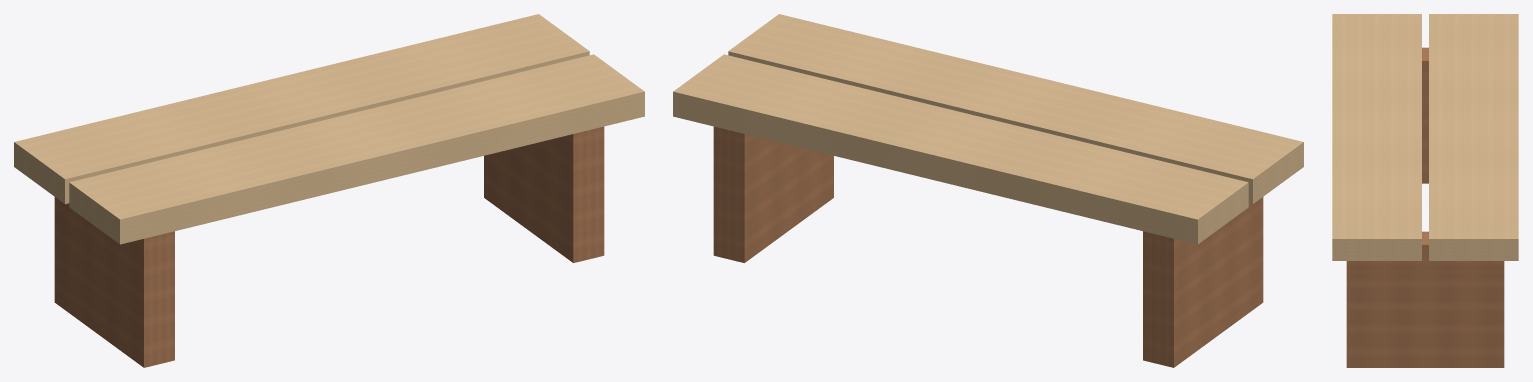
The model's file is atlas100-desertdeco-util03.lod1.glb.
The picture shows the model from 3 angles, left to right: view 1: azimuth 30°, elevation 25°; view 2: azimuth 150°, elevation 25°; view 3: azimuth 270°, elevation 25°; orthographic projection. The views are drawn at different scales.
Parts seen in each view (by area): view 1: atlas100-desertdeco-util03:part-004, atlas100-desertdeco-util03:part-002, atlas100-desertdeco-util03:part-000, atlas100-desertdeco-util03:part-001; view 2: atlas100-desertdeco-util03:part-002, atlas100-desertdeco-util03:part-004, atlas100-desertdeco-util03:part-000, atlas100-desertdeco-util03:part-001; view 3: atlas100-desertdeco-util03:part-002, atlas100-desertdeco-util03:part-004, atlas100-desertdeco-util03:part-001, atlas100-desertdeco-util03:part-000.
Boxes of the visible parts, <box> form: atlas100-desertdeco-util03:part-004: <box>69,54,644,244</box>; atlas100-desertdeco-util03:part-002: <box>14,14,589,204</box>; atlas100-desertdeco-util03:part-000: <box>54,197,174,367</box>; atlas100-desertdeco-util03:part-001: <box>484,126,604,262</box>; atlas100-desertdeco-util03:part-002: <box>673,54,1248,244</box>; atlas100-desertdeco-util03:part-004: <box>728,14,1303,204</box>; atlas100-desertdeco-util03:part-000: <box>1143,197,1263,367</box>; atlas100-desertdeco-util03:part-001: <box>713,126,833,262</box>; atlas100-desertdeco-util03:part-002: <box>1429,14,1518,260</box>; atlas100-desertdeco-util03:part-004: <box>1332,14,1421,260</box>; atlas100-desertdeco-util03:part-001: <box>1346,231,1504,367</box>; atlas100-desertdeco-util03:part-000: <box>1422,47,1428,183</box>.
Size of the model in its own units: 2.35 by 0.6949 by 0.8231.
2 materials, 2 textured.
